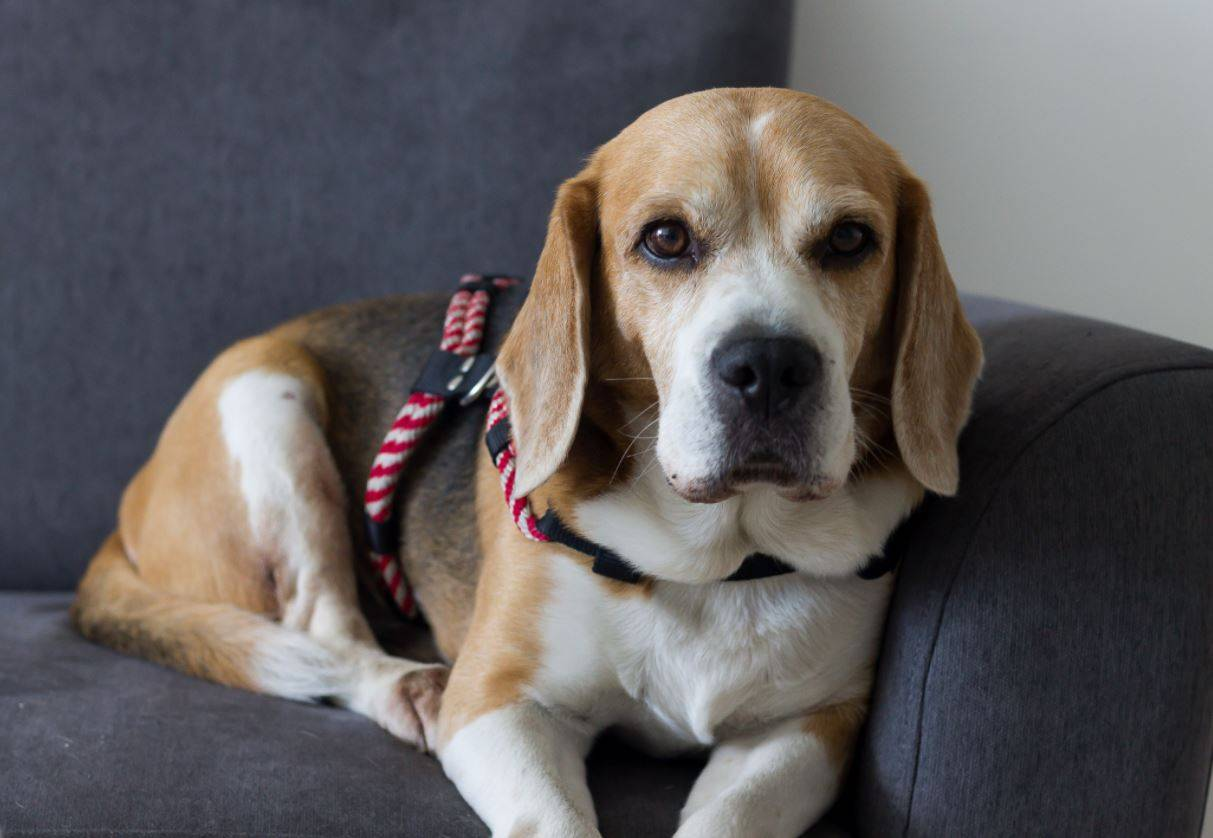dog: (33, 61, 1091, 838)
